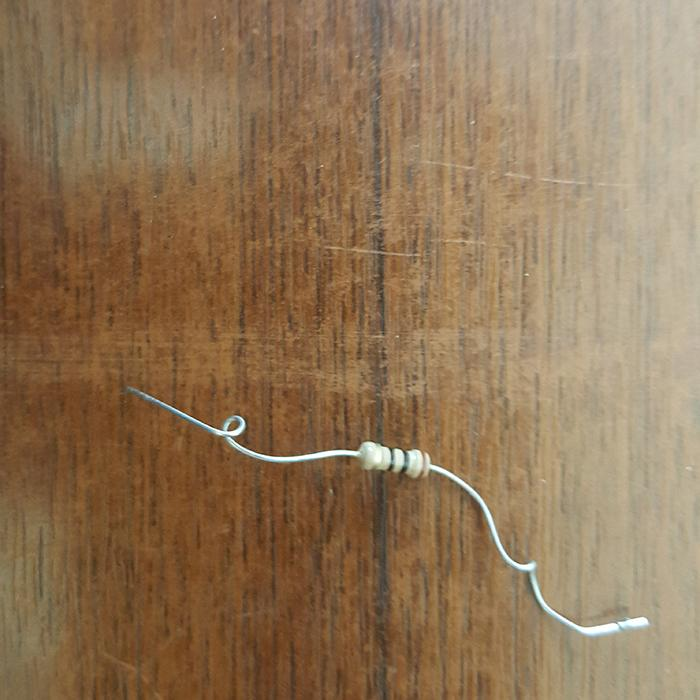resistor: (357, 440, 431, 478)
